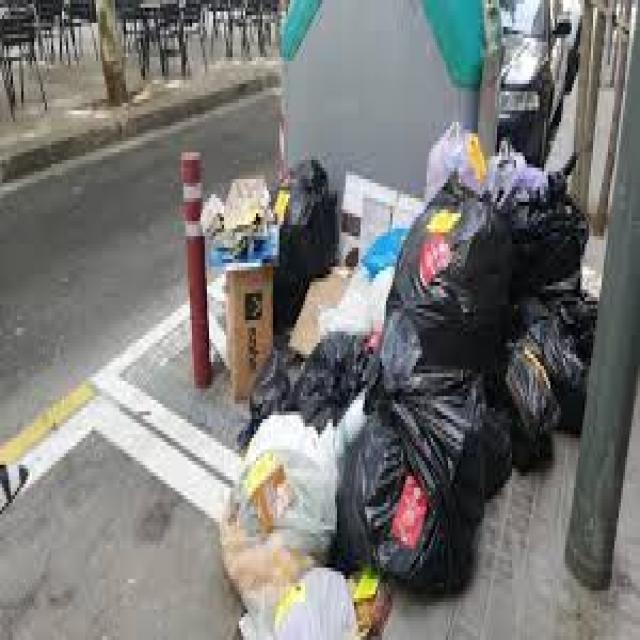garbage: (218, 112, 601, 640)
